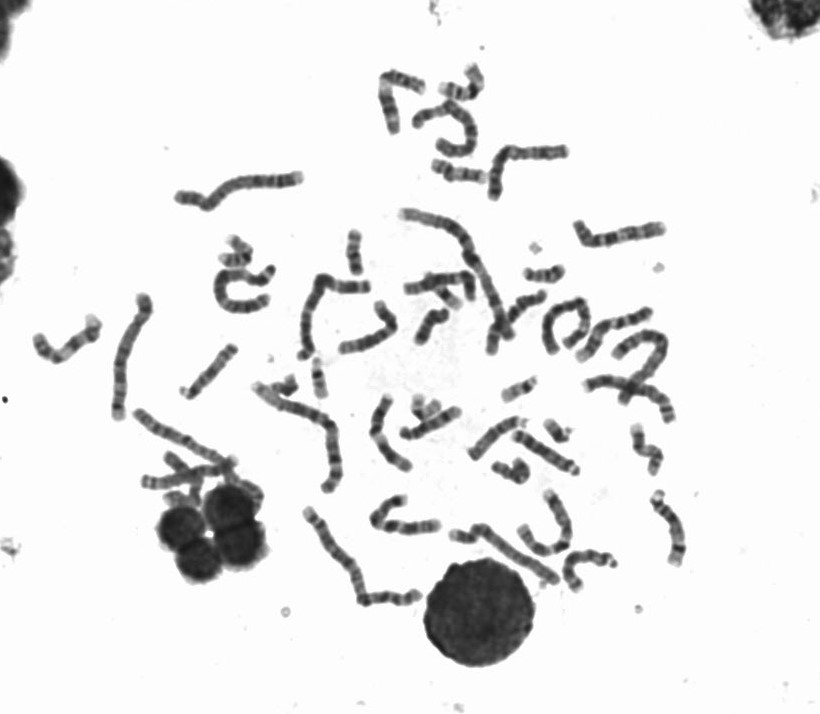chromosomes: (393, 202, 517, 346), (136, 410, 270, 518), (299, 504, 423, 610), (249, 379, 348, 497), (291, 270, 374, 370), (447, 521, 562, 590), (101, 290, 158, 423), (166, 168, 312, 217), (475, 143, 573, 202), (570, 304, 656, 371), (478, 288, 550, 360), (578, 371, 677, 423), (608, 329, 670, 410), (129, 451, 245, 494), (407, 99, 483, 160), (170, 341, 242, 405), (368, 388, 417, 481), (29, 310, 107, 367), (518, 487, 577, 558), (365, 490, 444, 543), (337, 296, 400, 361), (458, 413, 534, 466), (511, 427, 585, 480), (534, 294, 594, 358), (374, 66, 427, 138), (212, 262, 280, 316), (569, 217, 668, 252), (647, 487, 688, 570), (400, 271, 483, 307), (156, 454, 206, 512), (397, 404, 467, 442), (562, 550, 621, 595), (628, 419, 670, 477), (421, 269, 465, 315), (437, 62, 491, 99), (428, 158, 490, 190), (414, 306, 453, 354), (214, 232, 255, 272), (495, 374, 541, 405), (343, 225, 369, 277), (489, 458, 532, 486), (521, 262, 570, 286), (309, 354, 333, 402), (266, 372, 302, 402), (408, 393, 446, 420), (542, 417, 575, 444)
